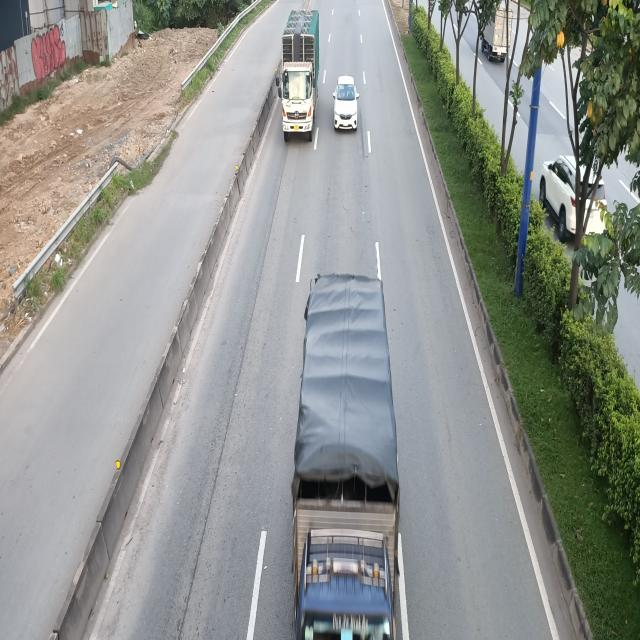car: (334, 75, 361, 132)
truck: (286, 268, 402, 639), (275, 8, 320, 144)
